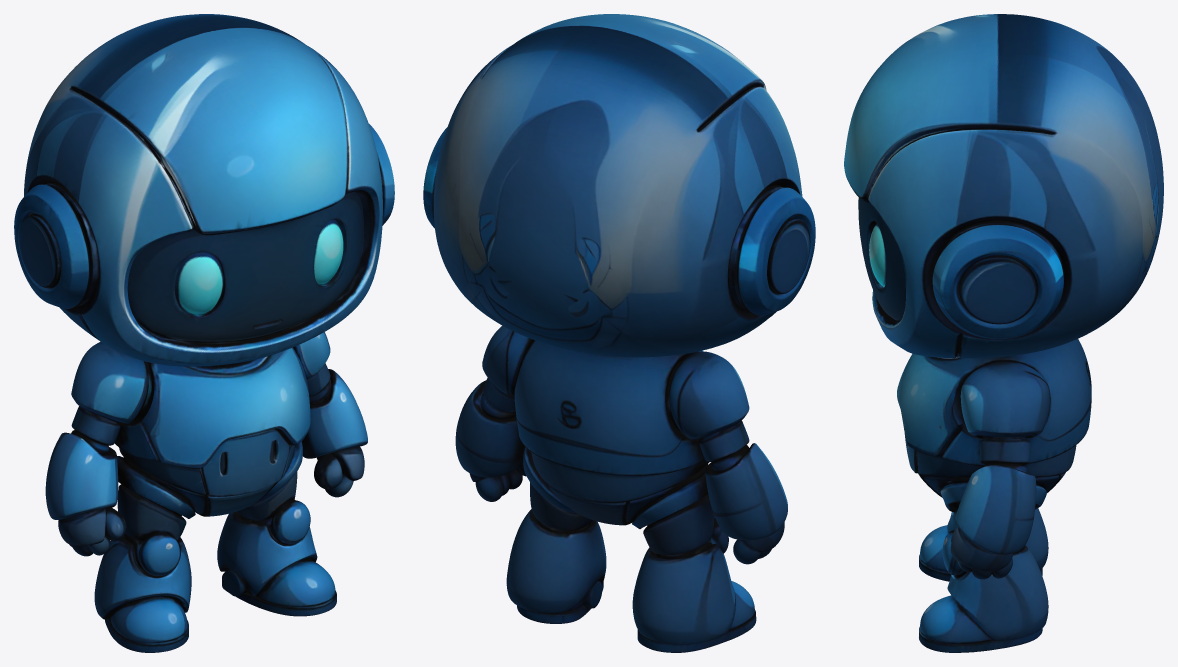
File: robot-optimized.glb
3 renders of one model, left to right at view 1: azimuth 30°, elevation 25°; view 2: azimuth 150°, elevation 25°; view 3: azimuth 270°, elevation 25°, orthographic. The views are drawn at different scales.
Visible parts, largest first — view 1: model; view 2: model; view 3: model.
Boxes of the visible parts, x1,y1,x2,y2 form: model: [14, 14, 394, 652]; model: [423, 14, 815, 652]; model: [844, 14, 1163, 652].
Size of the model in its own units: 1.09 by 1.78 by 0.9023.
Materials: 1 (1 with a texture image).
